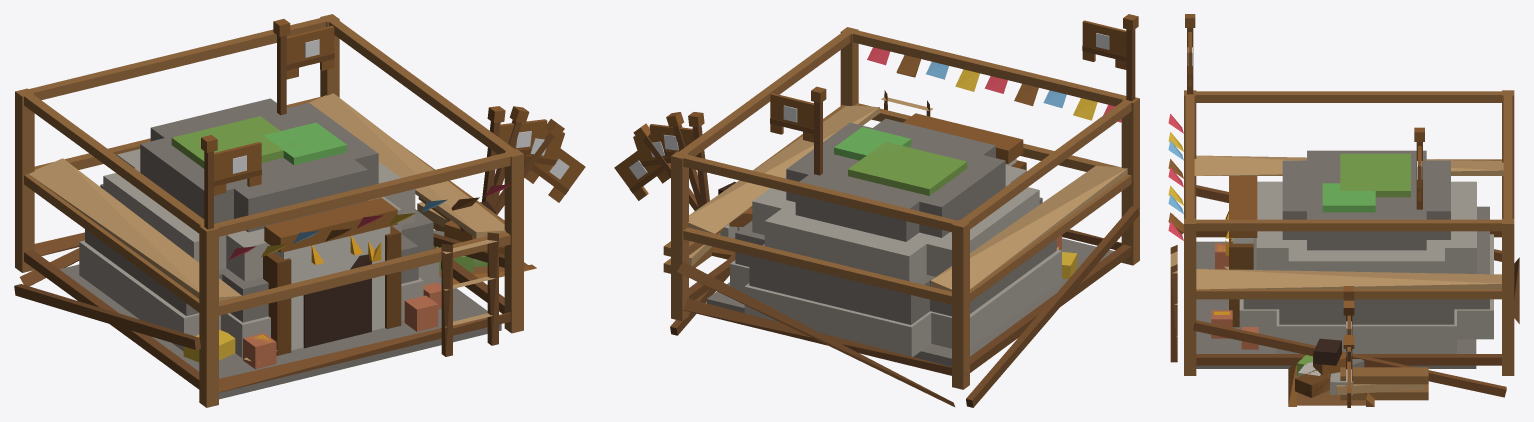
File: bear-producer.glb
The picture shows the model from 3 angles, left to right: view 1: azimuth 30°, elevation 25°; view 2: azimuth 150°, elevation 25°; view 3: azimuth 270°, elevation 25°; orthographic projection. The views are drawn at different scales.
Parts seen in each view (by area): view 1: scaffold-mesh, built-mesh, dismantle-75-mesh, dismantle-50-mesh, banner, scaffold-banner, dismantle-25-mesh, dismantle-25-banner, flag-pole, scaffold-flag-pole, dismantle-50-banner, dismantle-75-banner (+3 smaller); view 2: scaffold-mesh, built-mesh, dismantle-75-mesh, scaffold-banner, banner, dismantle-25-banner, scaffold-flag-pole, dismantle-50-mesh, flag-pole, dismantle-75-banner, dismantle-50-banner, dismantle-75-flag-pole (+3 smaller); view 3: scaffold-mesh, built-mesh, dismantle-75-mesh, dismantle-25-mesh, dismantle-50-mesh, flag-pole, scaffold-flag-pole.
Part boxes in pixels (x1,y1,x2,y2): scaffold-mesh: (14, 14, 523, 407); built-mesh: (79, 98, 423, 369); dismantle-75-mesh: (100, 184, 527, 357); dismantle-50-mesh: (183, 247, 504, 376); banner: (286, 26, 334, 79); scaffold-banner: (214, 142, 261, 195); dismantle-25-mesh: (185, 201, 536, 354); dismantle-25-banner: (525, 148, 585, 202); flag-pole: (273, 19, 290, 115); scaffold-flag-pole: (201, 135, 217, 229); dismantle-50-banner: (514, 127, 564, 174); dismantle-75-banner: (497, 119, 547, 157); scaffold-mesh: (663, 27, 1139, 407); built-mesh: (730, 113, 1061, 356); dismantle-75-mesh: (712, 197, 1071, 324); scaffold-banner: (1082, 20, 1126, 69); banner: (770, 93, 813, 142); dismantle-25-banner: (614, 145, 670, 200); scaffold-flag-pole: (1123, 14, 1138, 100); dismantle-50-mesh: (706, 227, 1110, 366); flag-pole: (811, 86, 826, 175); dismantle-75-banner: (649, 124, 695, 159); dismantle-50-banner: (633, 132, 679, 175); dismantle-75-flag-pole: (688, 112, 709, 206); scaffold-mesh: (1168, 90, 1519, 400); built-mesh: (1225, 150, 1493, 326); dismantle-75-mesh: (1215, 206, 1489, 406); dismantle-25-mesh: (1215, 257, 1373, 406); dismantle-50-mesh: (1196, 242, 1459, 397); flag-pole: (1414, 127, 1424, 209); scaffold-flag-pole: (1185, 14, 1195, 94).
Size of the model in its own units: 2.7 by 1.55 by 1.99.
